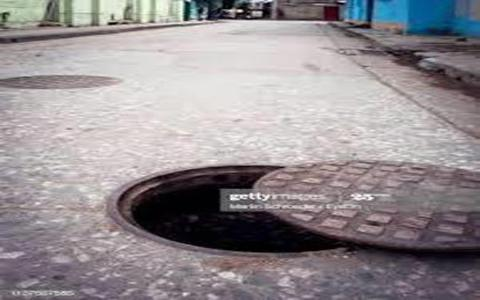open manhole: (114, 160, 339, 260)
